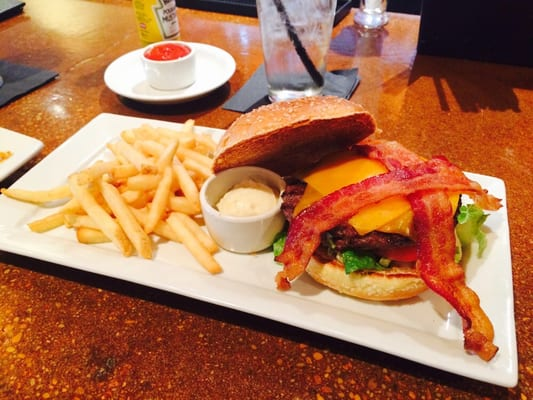pizza: (255, 0, 337, 104), (141, 40, 197, 93), (353, 0, 389, 29)
sandwich: (0, 63, 59, 110)
soup: (275, 137, 501, 366), (214, 95, 376, 175)
sushi: (199, 166, 289, 255)
